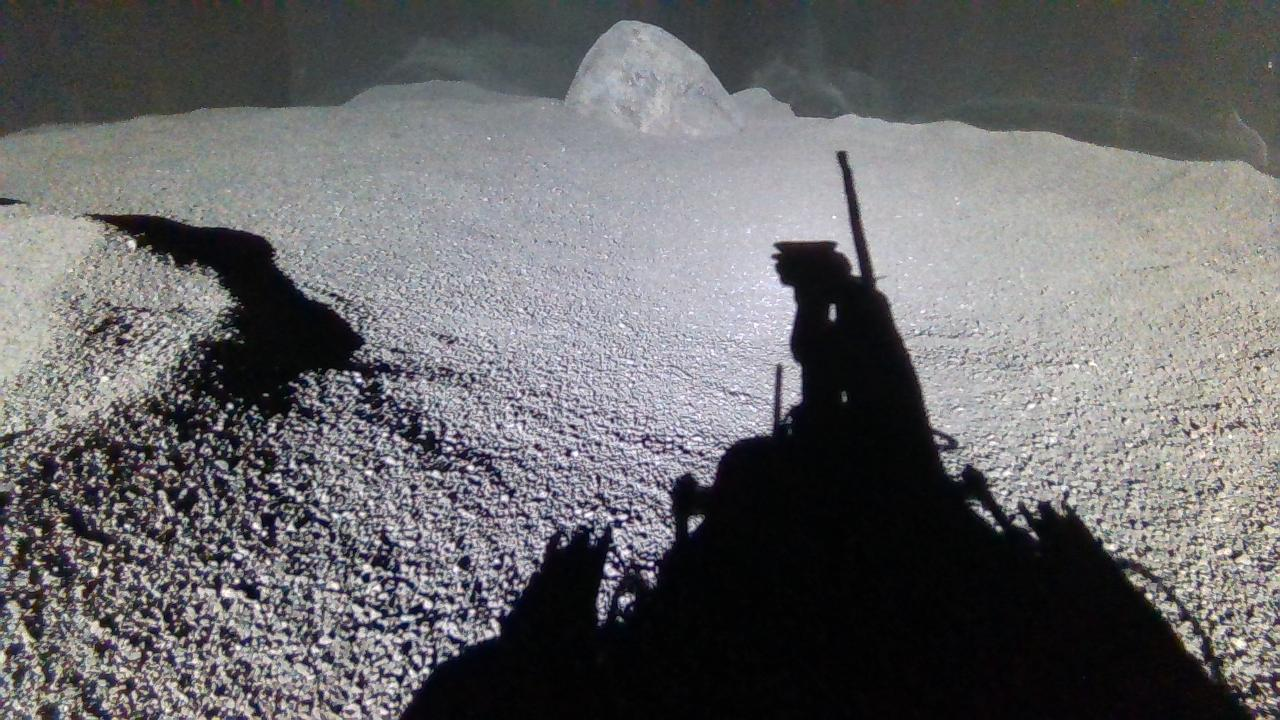rock: (567, 19, 745, 134)
